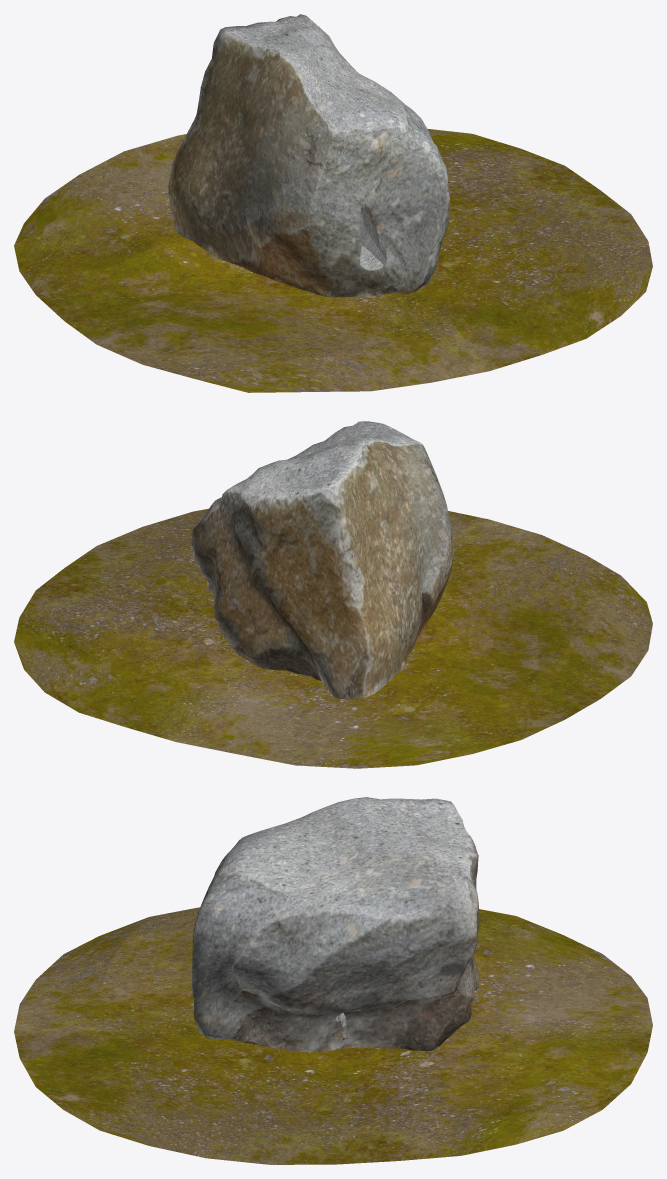
The model's file is Tafoni.gltf.
The picture shows the model from 3 angles, top to bottom: view 1: azimuth 30°, elevation 25°; view 2: azimuth 150°, elevation 25°; view 3: azimuth 270°, elevation 25°; orthographic projection. The views are drawn at different scales.
Parts seen in each view (by area): view 1: Plane, Rock-08; view 2: Plane, Rock-08; view 3: Plane, Rock-08.
Part boxes in pixels (<box>): Plane: <box>14,129,652,392</box>; Rock-08: <box>167,14,449,297</box>; Plane: <box>14,508,652,768</box>; Rock-08: <box>191,421,453,698</box>; Plane: <box>14,907,652,1164</box>; Rock-08: <box>191,797,479,1052</box>.
Size of the model in its own units: 5.43 by 2.19 by 5.49.
2 materials, 2 textured.
